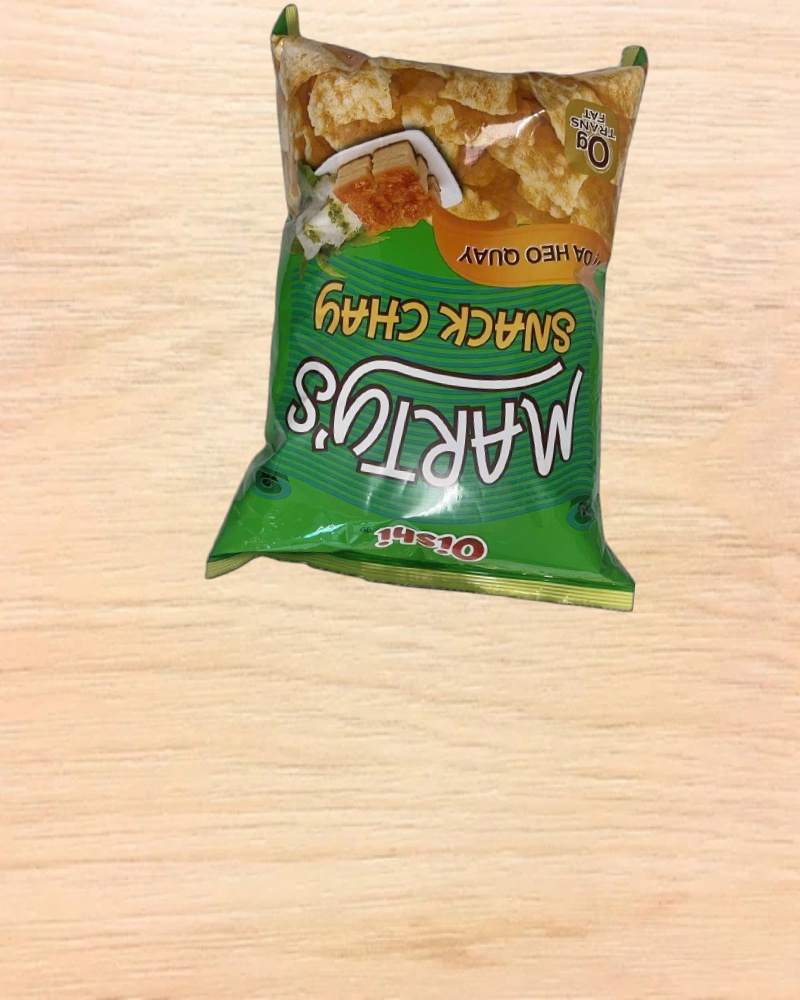Snack chay: (226, 5, 682, 617)
